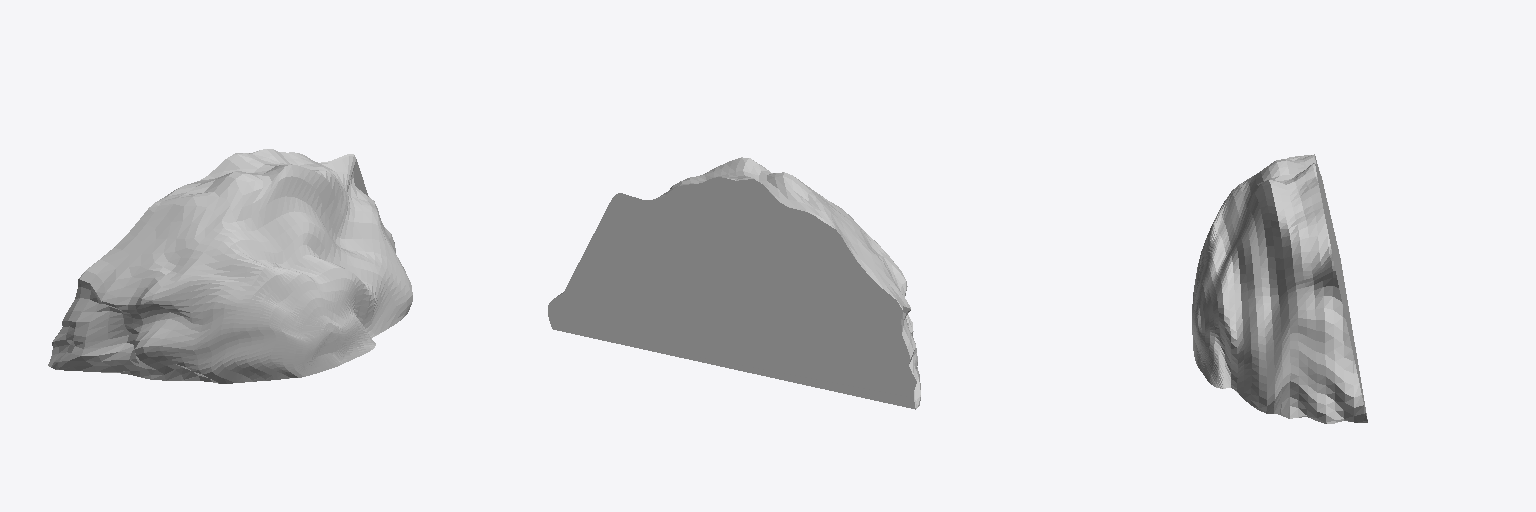
File: Asteroid2fifth4.obj
3 views of the same model, side by side, from view 1: azimuth 30°, elevation 25°; view 2: azimuth 150°, elevation 25°; view 3: azimuth 270°, elevation 25° (orthographic).
Parts seen in each view (by area): view 1: asteroid2; view 2: asteroid2; view 3: asteroid2.
Boxes of the visible parts, box(x1,y1,x2,y2) form: asteroid2: box(48, 149, 412, 383); asteroid2: box(548, 157, 920, 409); asteroid2: box(1192, 154, 1367, 423).
Bounding box in the file's own units: 2.41 × 1.17 × 1.03.